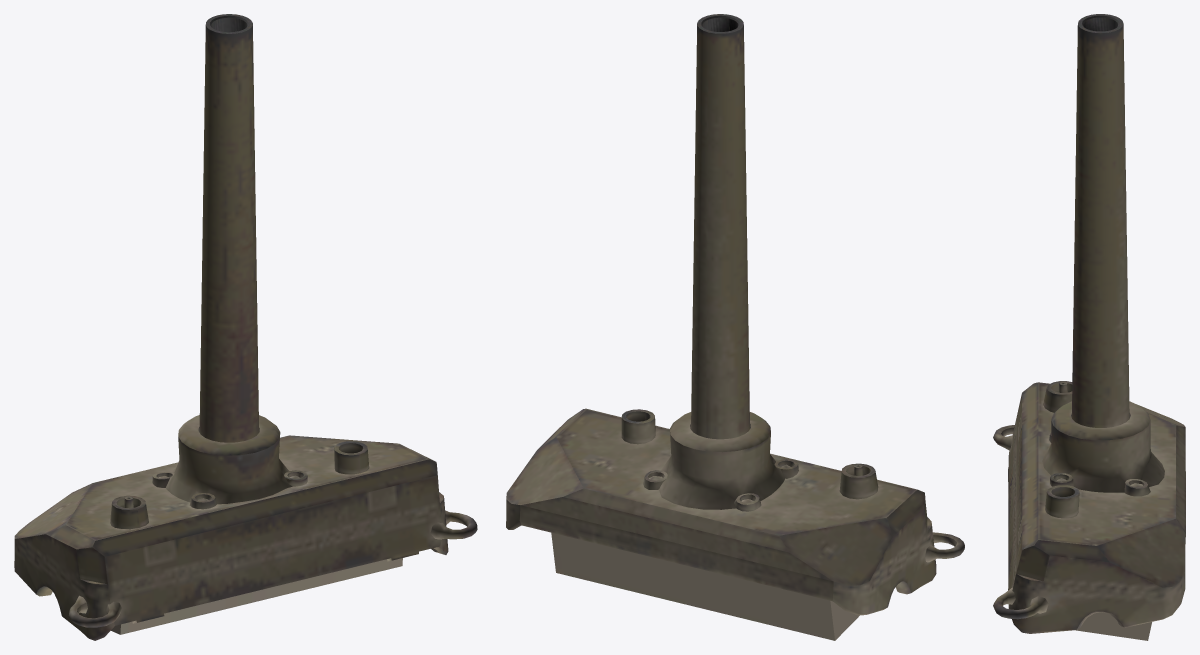
The model's file is Gun_03.glb.
3 views of the same model, side by side, from view 1: azimuth 30°, elevation 25°; view 2: azimuth 150°, elevation 25°; view 3: azimuth 270°, elevation 25° (orthographic). The views are drawn at different scales.
Parts seen in each view (by area): view 1: set_0_group_0; view 2: set_0_group_0; view 3: set_0_group_0.
Part boxes in pixels (x1,y1,x2,y2): set_0_group_0: (14, 14, 477, 640); set_0_group_0: (506, 14, 964, 640); set_0_group_0: (993, 14, 1185, 640).
Size of the model in its own units: 1.35 by 1.82 by 0.5794.
Materials: 1 (1 with a texture image).
